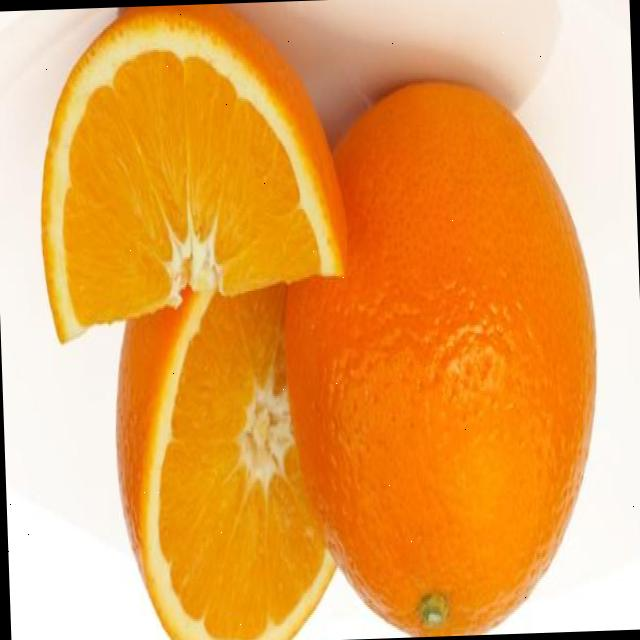Jeruk: (274, 74, 607, 640), (33, 1, 352, 348), (110, 280, 342, 640)
